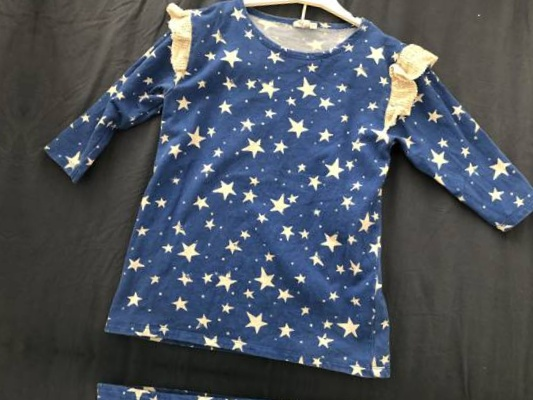Dress: (37, 0, 533, 399), (0, 362, 510, 400), (0, 0, 3, 325), (89, 0, 533, 0)
